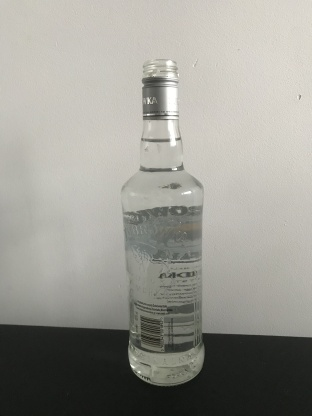nakretka: (139, 57, 181, 120)
